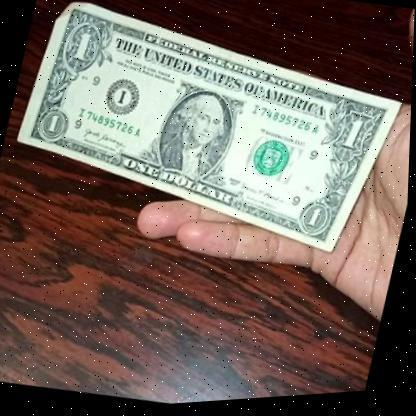one-front: (0, 0, 416, 277)
